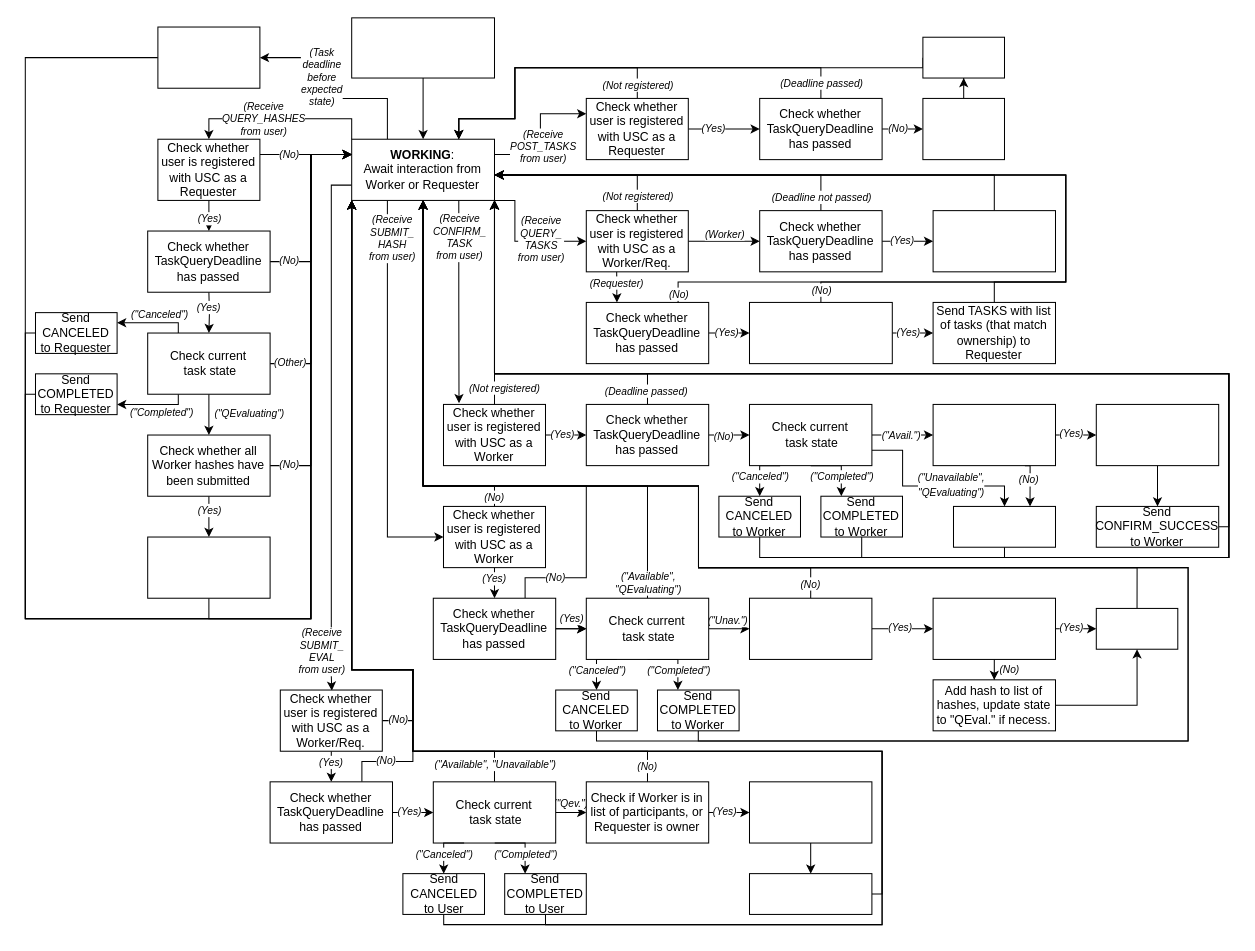
Some shapes in this 1255 by 951 pixel diagram are drawn without their labels. The shapes that lost their labels are listed below. From the top down, each one's centre as x and y in pixels, then its label:
point (208, 57): Update task state to "Canceled"
point (422, 47): INIT : Initialize local variables and setup
point (963, 57): Send ACK to Requester
point (963, 128): Add tasks to TSCs list of active tasks
point (993, 241): Send TASKS with list of tasks (w/ non-vital information omitted) to Worker
point (820, 332): Check if all matching tasks are "Unavailable", "Canceled" or "Completed"
point (993, 434): Check whether space is available and user satisfies "checkQ"
point (1157, 434): Add user to list of participants, update state to "Unavailable" if necessary
point (1003, 526): Send CONFIRM_FAIL to Worker
point (208, 567): Send HASHES with list of Worker hashes to Requester
point (810, 628): Check if Worker is in the task's list of participants
point (993, 628): Check whether hash has already been received from Worker
point (1136, 628): Send ACK to Worker
point (810, 812): Store weights as Worker/Req., update state to "Completed" if necessary
point (810, 893): Send ACK to Worker or Requester
